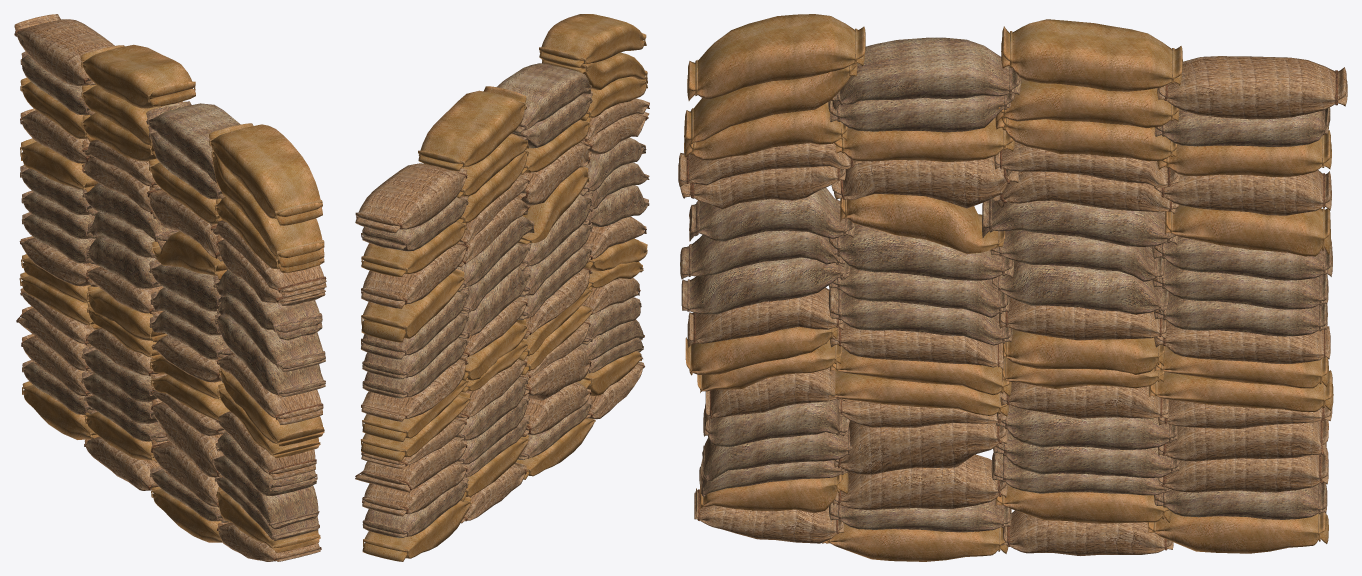
File: SM_Mado_Ricebags.fbx
3 renders of one model, left to right at view 1: azimuth 30°, elevation 25°; view 2: azimuth 150°, elevation 25°; view 3: azimuth 270°, elevation 25°, orthographic. The views are drawn at different scales.
Visible parts, largest first — view 1: SM_Mado_Ricebags; view 2: SM_Mado_Ricebags; view 3: SM_Mado_Ricebags.
Part boxes in pixels (<box>): SM_Mado_Ricebags: <box>14,14,326,561</box>; SM_Mado_Ricebags: <box>355,14,649,561</box>; SM_Mado_Ricebags: <box>678,14,1347,561</box>.
Bounding box in the file's own units: 42.38 × 308 × 266.
Materials: 3 (3 with a texture image).
